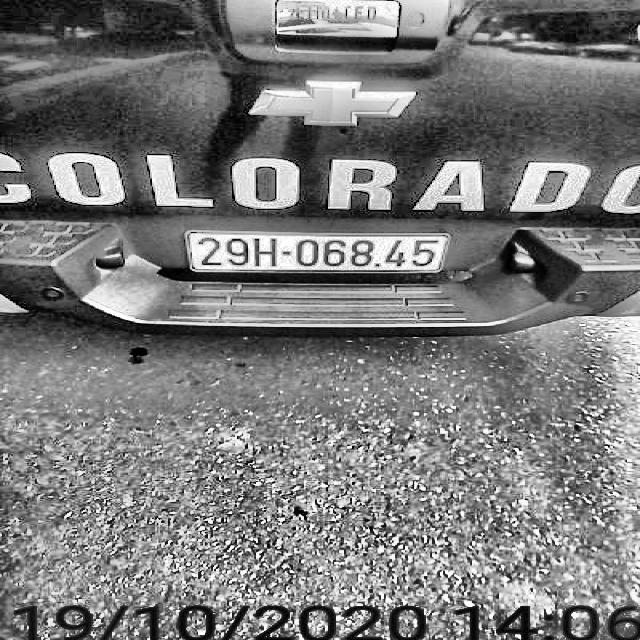plate: (168, 219, 457, 282)
